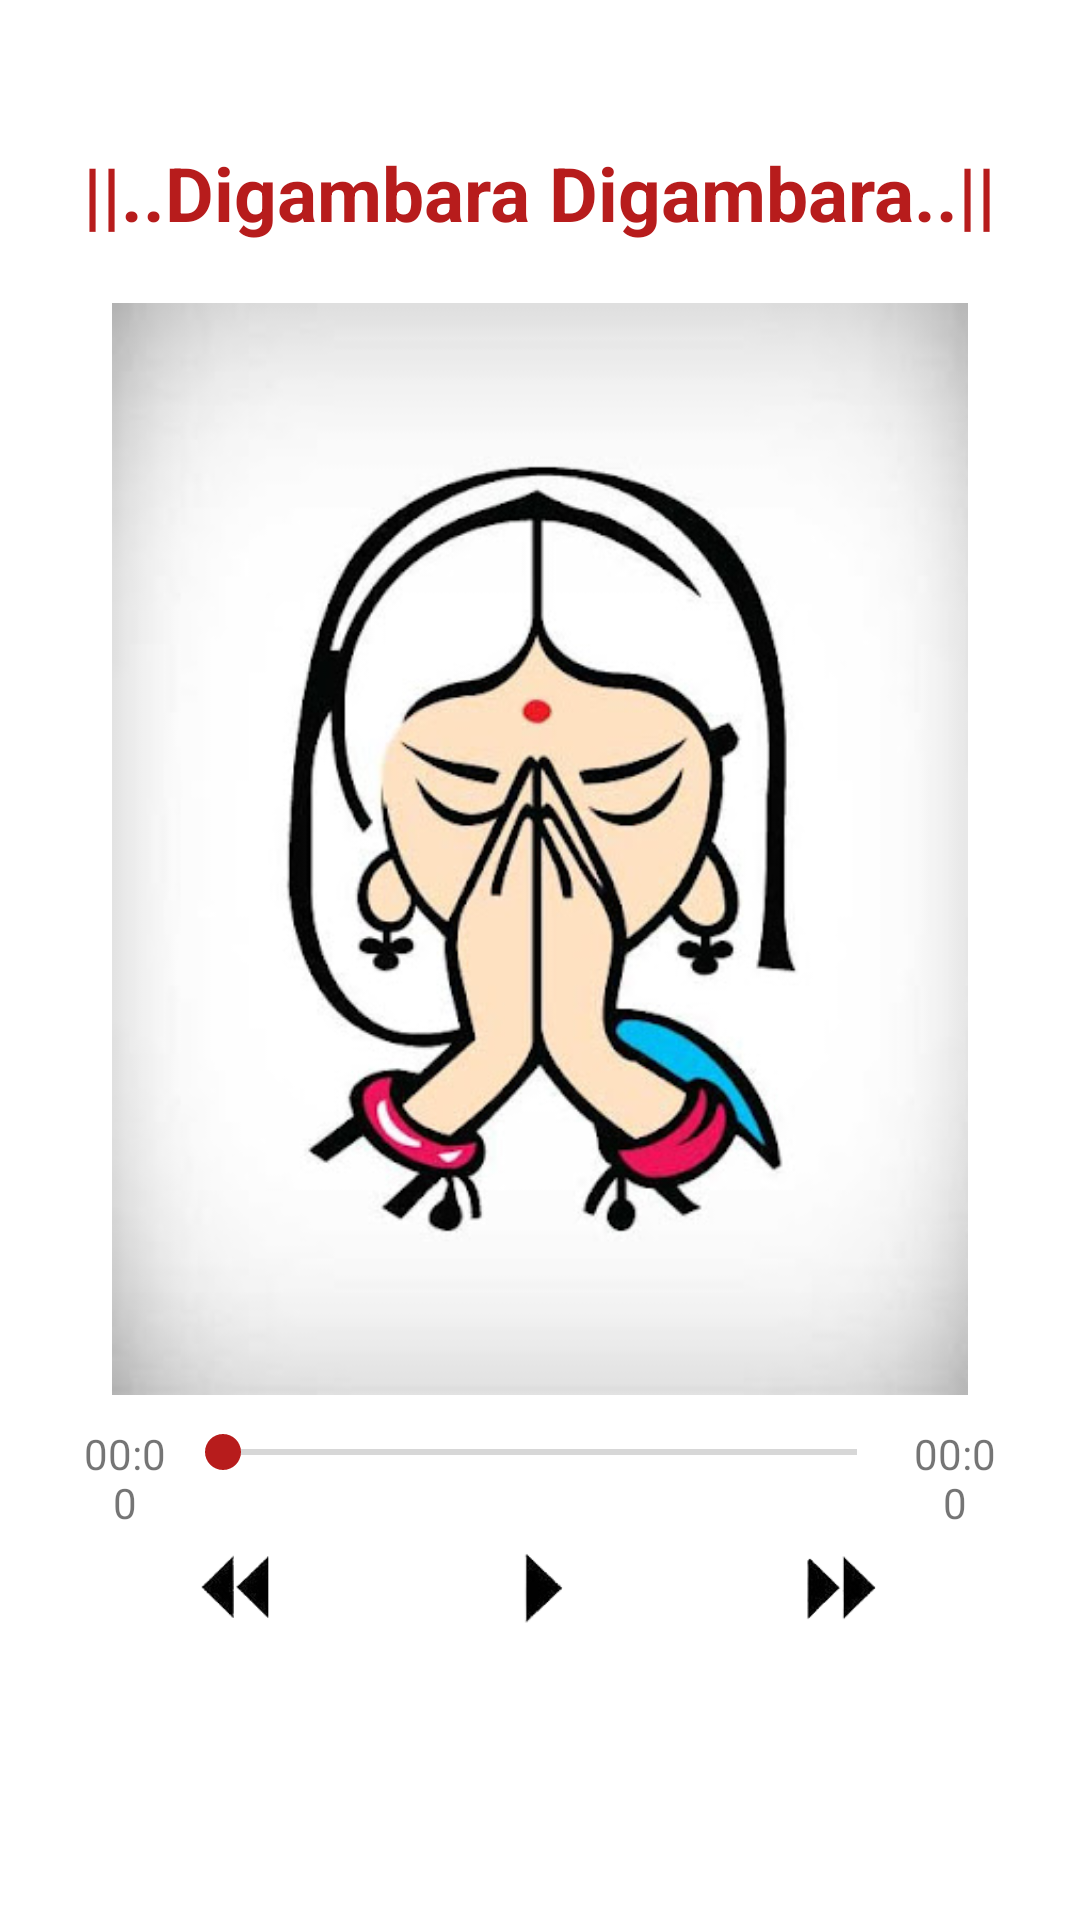

Named icons in this screenshot (1080×1920) and their bounding boxes, {"x1": x1, "y1": y1, "x2": x2, "y2": y2}:
backword: {"x1": 201, "y1": 1556, "x2": 269, "y2": 1618}
foreword: {"x1": 807, "y1": 1556, "x2": 875, "y2": 1619}
play: {"x1": 525, "y1": 1554, "x2": 562, "y2": 1623}
